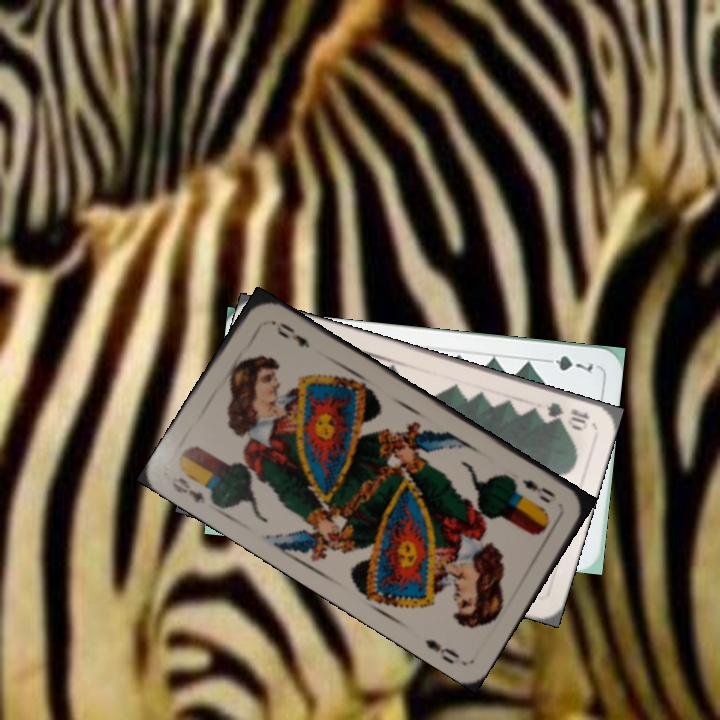EO: (167, 472, 209, 507), (518, 475, 559, 506)
G10: (542, 398, 593, 427)
G7: (538, 351, 596, 376)
